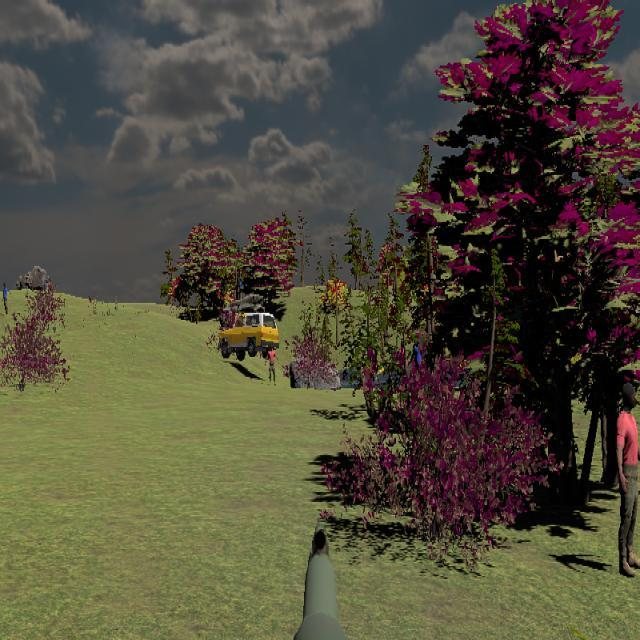Human: (615, 382, 640, 576), (265, 343, 280, 387)
car: (218, 311, 279, 361)
